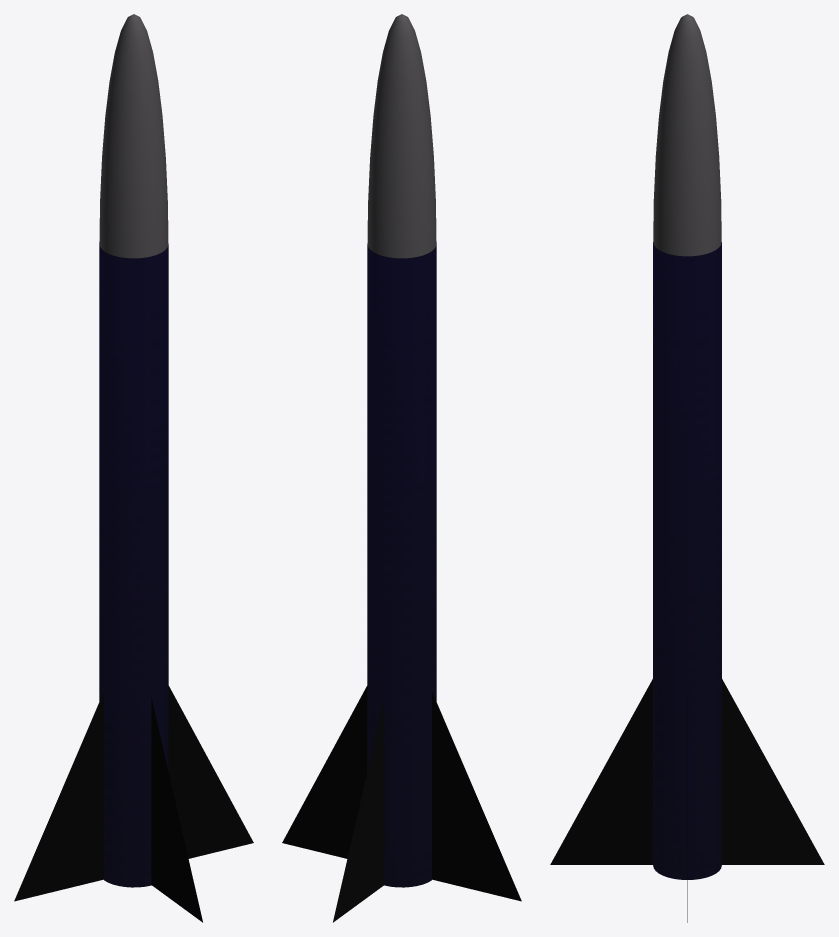
File: missile.glb
The picture shows the model from 3 angles, left to right: view 1: azimuth 30°, elevation 25°; view 2: azimuth 150°, elevation 25°; view 3: azimuth 270°, elevation 25°; orthographic projection.
Visible parts, largest first — view 1: Cylinder, Sphere, Plane.002, Plane, Plane.003; view 2: Cylinder, Sphere, Plane.002, Plane, Plane.001; view 3: Cylinder, Sphere, Plane.001, Plane.003.
Part boxes in pixels (<box>): Cylinder: <box>99,243,168,887</box>; Sphere: <box>99,14,168,258</box>; Plane.002: <box>14,692,103,901</box>; Plane: <box>168,686,253,858</box>; Plane.003: <box>151,697,202,922</box>; Cylinder: <box>367,243,436,887</box>; Sphere: <box>367,14,436,258</box>; Plane.002: <box>432,692,521,901</box>; Plane: <box>282,686,367,858</box>; Plane.001: <box>333,697,384,922</box>; Cylinder: <box>653,242,721,879</box>; Sphere: <box>653,14,721,256</box>; Plane.001: <box>722,679,824,864</box>; Plane.003: <box>550,679,652,864</box>.
Bounding box in the file's own units: 4 × 13.68 × 4.
Materials: 6 (1 with a texture image).
